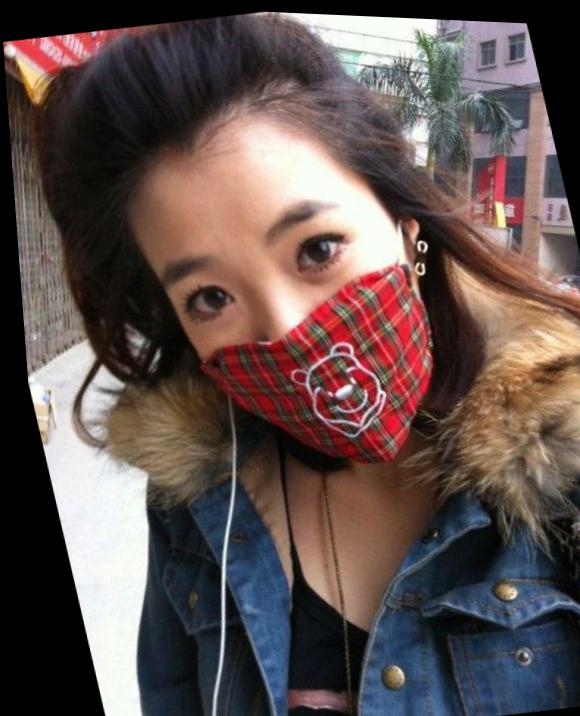WRONG: (153, 177, 455, 474)
